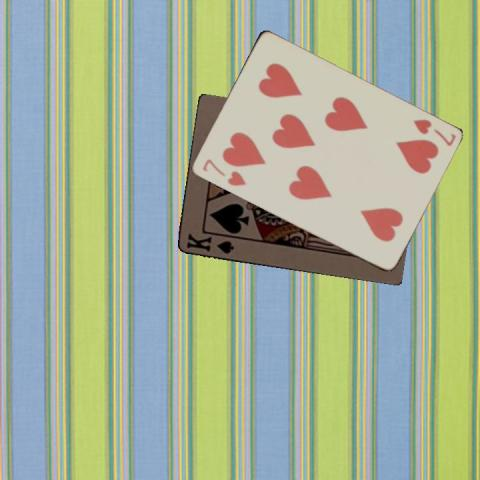7h: (409, 116, 458, 148), (199, 156, 247, 188)
Ks: (183, 231, 235, 255)
